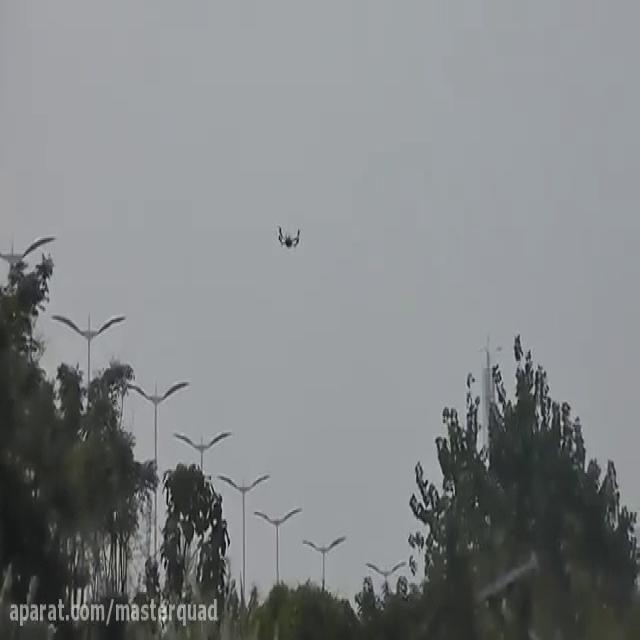drone: (275, 219, 304, 249)
